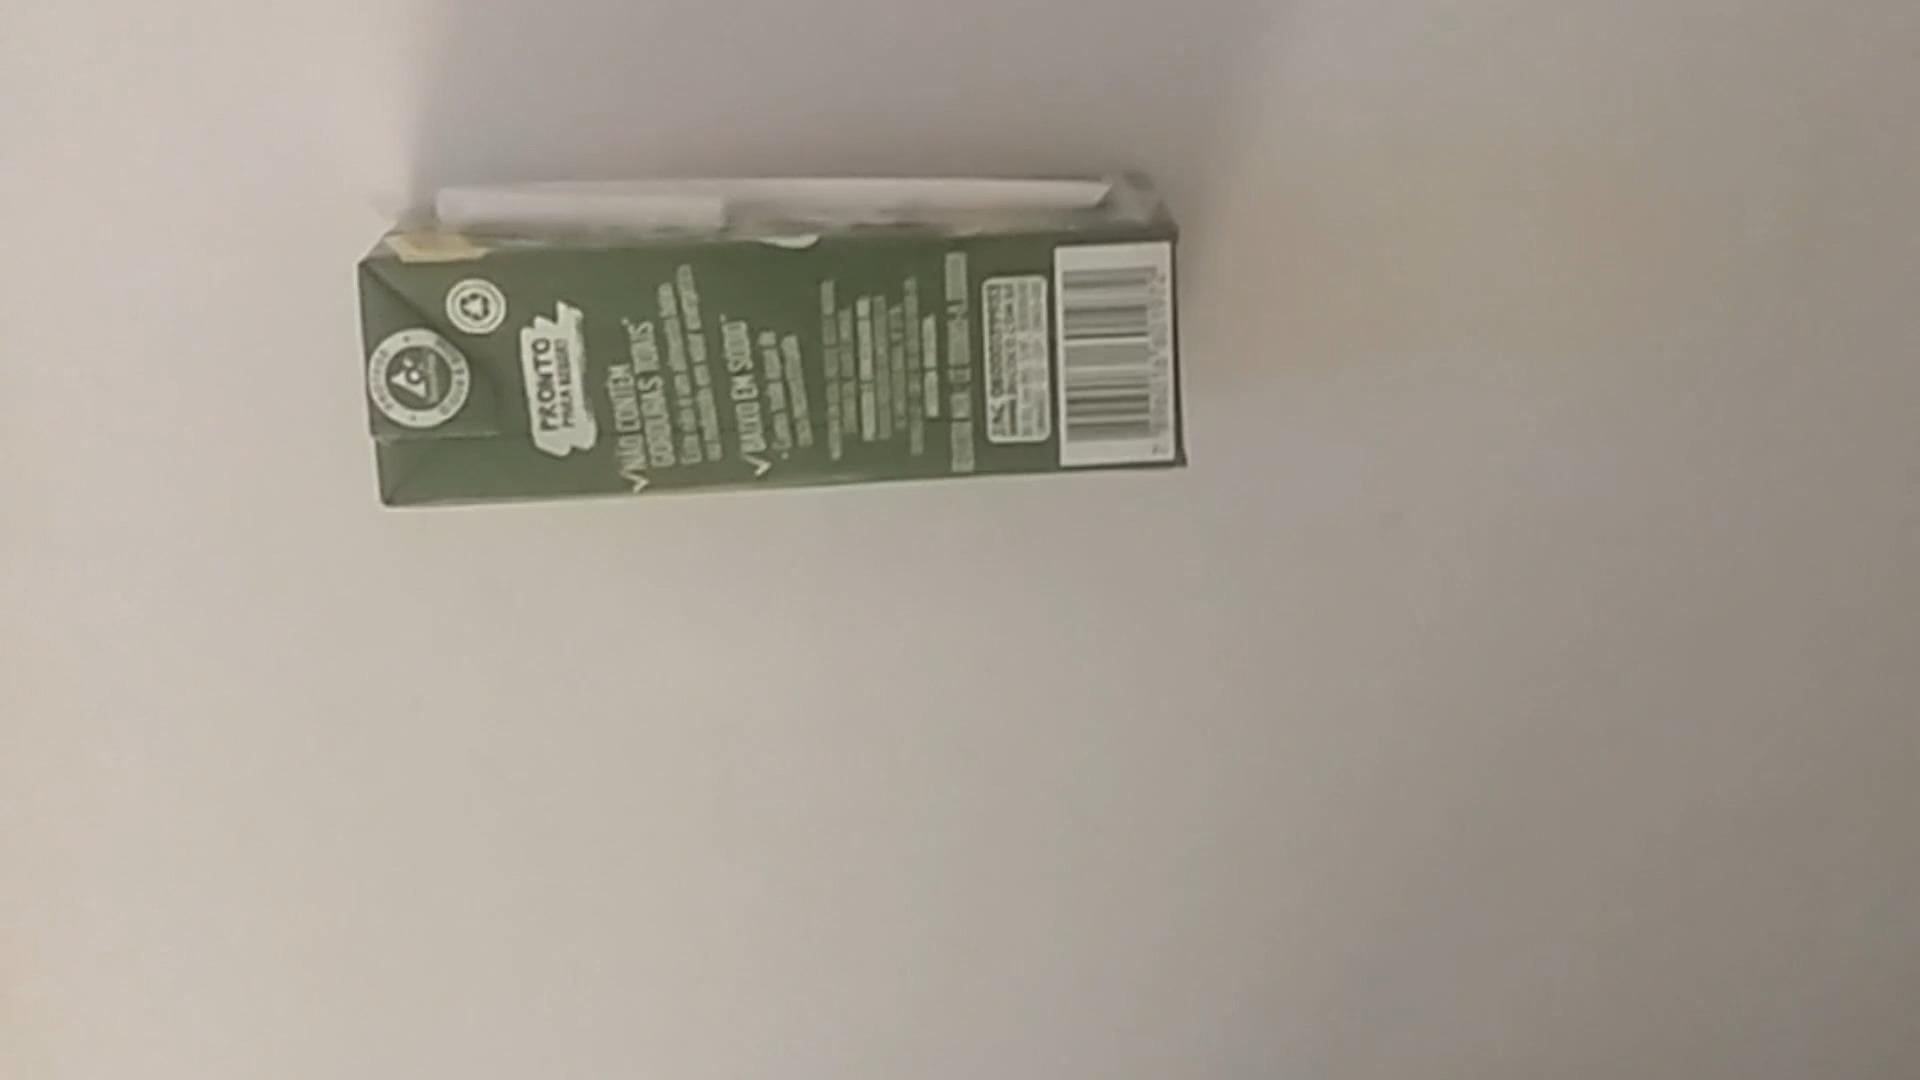coco: (367, 175, 1191, 513)
